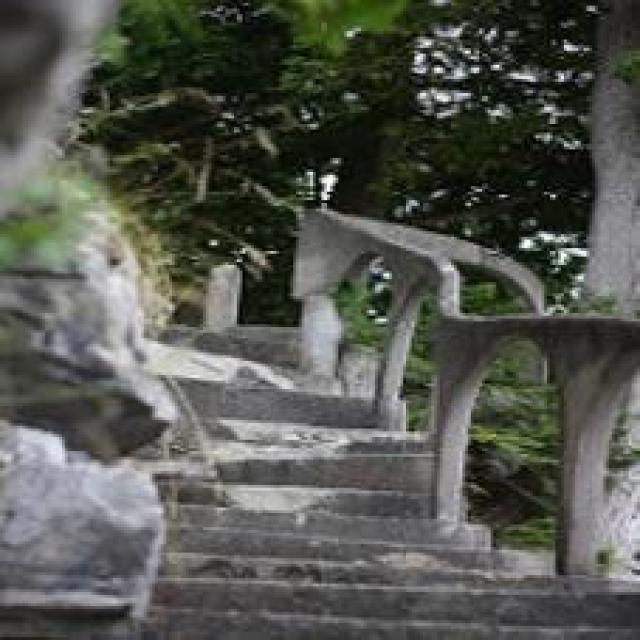upstair: (142, 359, 534, 613)
